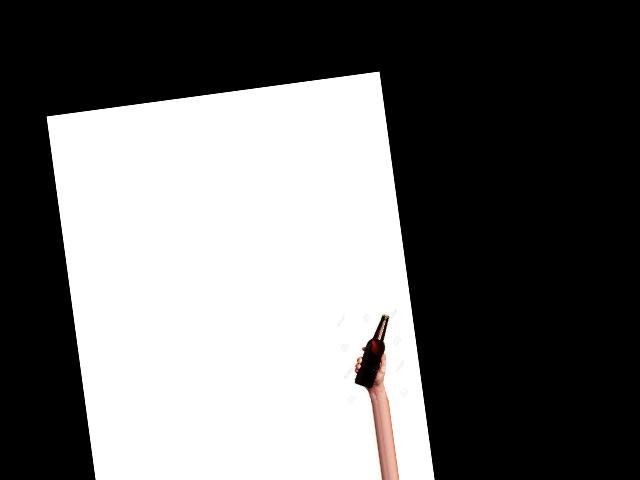beer: (347, 313, 398, 389)
